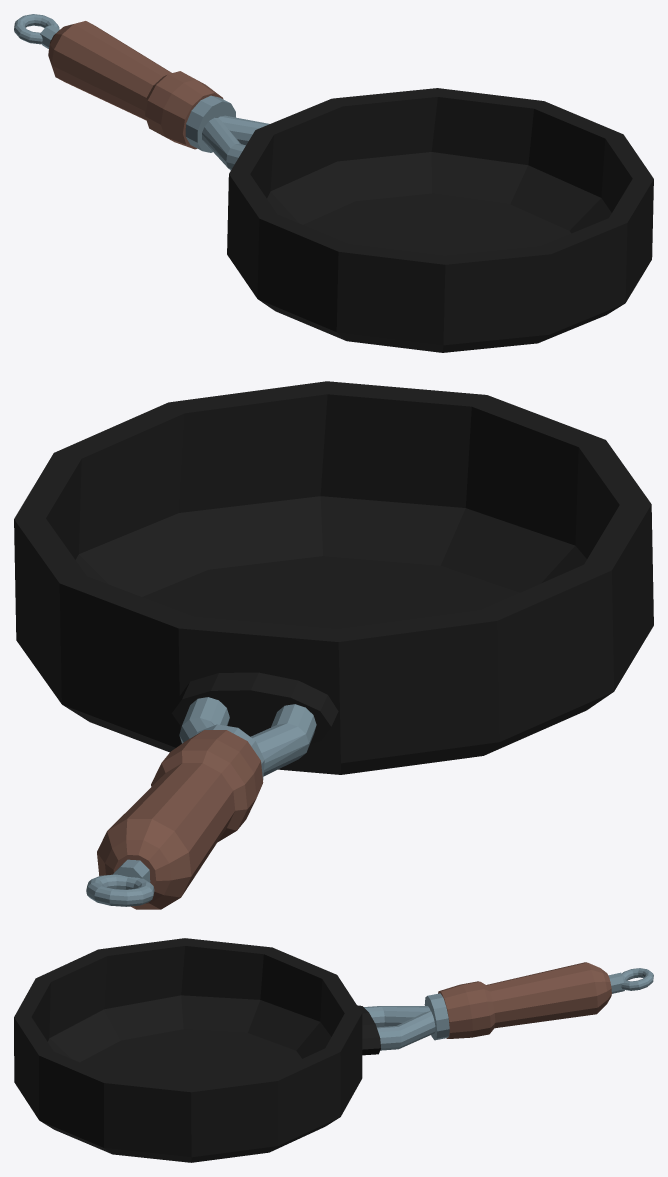
3 views of the same model, one above another, from view 1: azimuth 30°, elevation 25°; view 2: azimuth 150°, elevation 25°; view 3: azimuth 270°, elevation 25° (orthographic). The views are drawn at different scales.
Visible parts, largest first — view 1: group_1161334798; view 2: group_1161334798; view 3: group_1161334798.
Boxes of the visible parts, left/top/right/bottom form: group_1161334798: left=14, top=14, right=653, bottom=352; group_1161334798: left=14, top=381, right=653, bottom=909; group_1161334798: left=14, top=938, right=653, bottom=1162.
Size of the model in its own units: 29.7 by 8.04 by 54.36.
